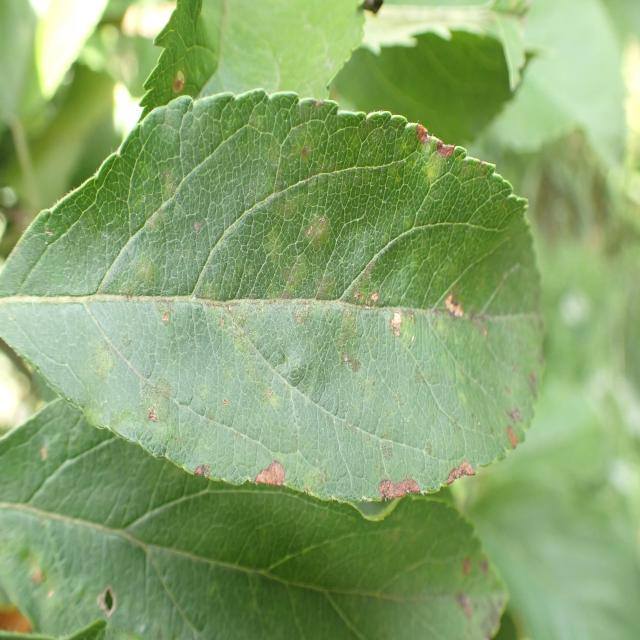frog-eye-leaf-spot: (1, 86, 547, 504), (137, 0, 370, 120)
